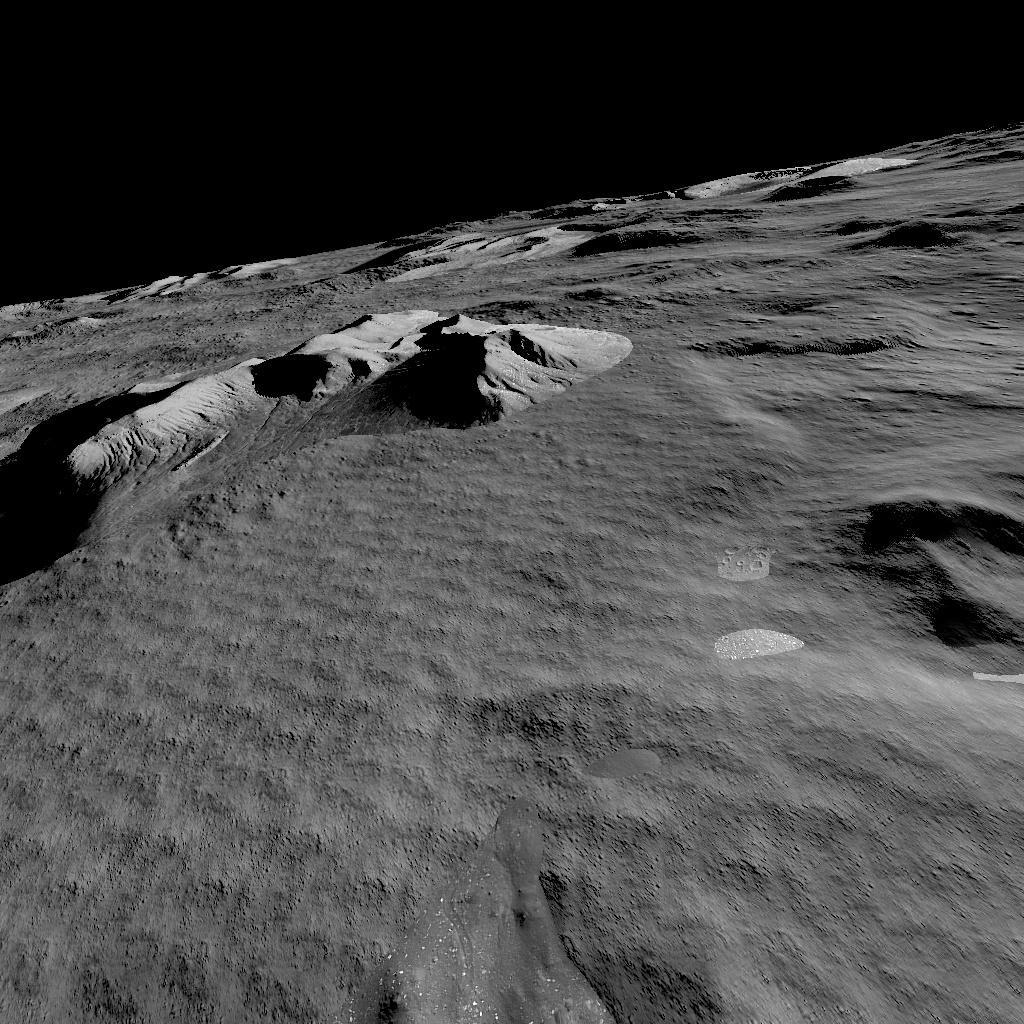Boulders: (0, 302, 640, 542), (358, 146, 970, 278), (108, 254, 274, 293)
Crater: (1, 965, 1024, 1024), (855, 478, 1024, 654), (676, 318, 928, 390)
Plan surface: (18, 588, 826, 922)
